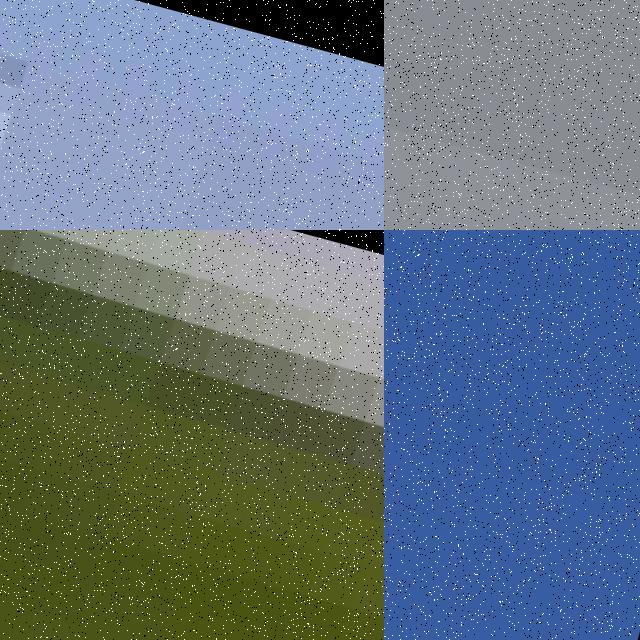0: (0, 0, 384, 230)
drone: (0, 230, 384, 640)
